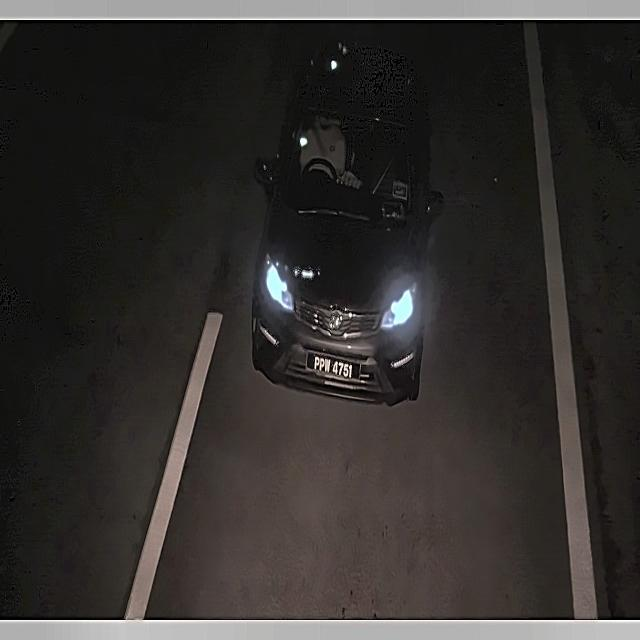car: (307, 348, 358, 386)
